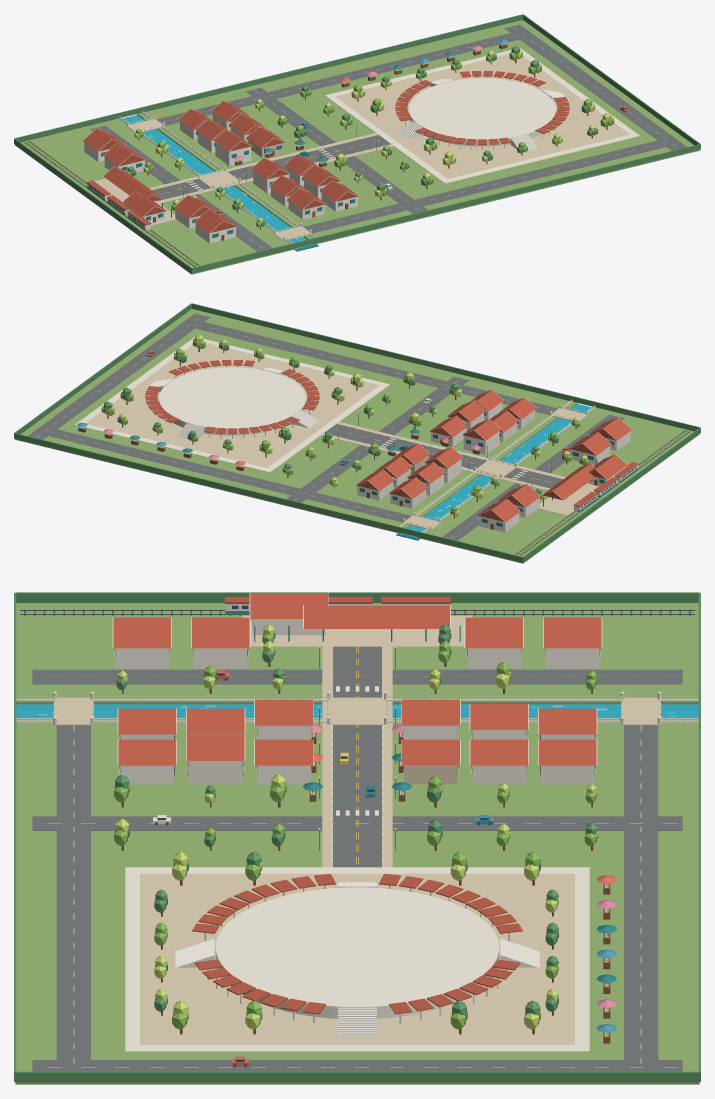
Rendered from HNP_Town.fbx.
3 views of the same model, one above another, from view 1: azimuth 30°, elevation 25°; view 2: azimuth 150°, elevation 25°; view 3: azimuth 270°, elevation 25° (orthographic). The views are drawn at different scales.
Visible parts, largest first — view 1: COLL_Town, Town_HNPW_Asphalt, Town_HNPW_Ivory, Town_HNPW_Roof, Town_HNPW_Path, Town_HNPW_LeafDark, Town_HNPW_Water, Town_HNPW_Leaf, Town_HNPW_LeafLight, Town_HNPW_Plaster, Town_HNPW_White, Town_HNPW_Teal (+1 smaller); view 2: COLL_Town, Town_HNPW_Asphalt, Town_HNPW_Ivory, Town_HNPW_Roof, Town_HNPW_Path, Town_HNPW_LeafDark, Town_HNPW_Water, Town_HNPW_Leaf, Town_HNPW_LeafLight, Town_HNPW_White, Town_HNPW_Plaster, Town_HNPW_Teal (+1 smaller); view 3: COLL_Town, Town_HNPW_Asphalt, Town_HNPW_Path, Town_HNPW_Roof, Town_HNPW_Ivory, Town_HNPW_LeafDark, Town_HNPW_Plaster, Town_HNPW_Leaf, Town_HNPW_LeafLight, Town_HNPW_White, Town_HNPW_Water, Town_HNPW_Teal (+2 smaller).
Part boxes in pixels (bbox=[...]): COLL_Town: bbox=[14, 14, 700, 274]; Town_HNPW_Asphalt: bbox=[90, 24, 686, 251]; Town_HNPW_Ivory: bbox=[83, 39, 639, 248]; Town_HNPW_Roof: bbox=[83, 71, 569, 232]; Town_HNPW_Path: bbox=[94, 54, 629, 225]; Town_HNPW_LeafDark: bbox=[14, 14, 700, 272]; Town_HNPW_Water: bbox=[122, 115, 316, 248]; Town_HNPW_Leaf: bbox=[126, 43, 614, 227]; Town_HNPW_LeafLight: bbox=[134, 50, 611, 223]; Town_HNPW_Plaster: bbox=[84, 80, 555, 242]; Town_HNPW_White: bbox=[99, 28, 676, 247]; Town_HNPW_Teal: bbox=[87, 52, 455, 251]; COLL_Town: bbox=[14, 303, 700, 563]; Town_HNPW_Asphalt: bbox=[28, 313, 624, 540]; Town_HNPW_Ivory: bbox=[75, 337, 634, 532]; Town_HNPW_Roof: bbox=[145, 360, 637, 521]; Town_HNPW_Path: bbox=[86, 343, 598, 515]; Town_HNPW_LeafDark: bbox=[14, 303, 700, 561]; Town_HNPW_Water: bbox=[398, 404, 592, 537]; Town_HNPW_Leaf: bbox=[80, 339, 589, 515]; Town_HNPW_LeafLight: bbox=[101, 334, 587, 516]; Town_HNPW_White: bbox=[36, 318, 614, 538]; Town_HNPW_Plaster: bbox=[159, 369, 588, 532]; Town_HNPW_Teal: bbox=[130, 412, 637, 540]; COLL_Town: bbox=[14, 592, 700, 1084]; Town_HNPW_Asphalt: bbox=[32, 646, 682, 1071]; Town_HNPW_Path: bbox=[140, 615, 574, 1044]; Town_HNPW_Roof: bbox=[113, 593, 601, 1014]; Town_HNPW_Ivory: bbox=[16, 593, 698, 1051]; Town_HNPW_LeafDark: bbox=[14, 592, 700, 1082]; Town_HNPW_Plaster: bbox=[115, 619, 599, 1035]; Town_HNPW_Leaf: bbox=[114, 634, 608, 1035]; Town_HNPW_LeafLight: bbox=[114, 624, 598, 1029]; Town_HNPW_White: bbox=[16, 621, 698, 1067]; Town_HNPW_Water: bbox=[16, 704, 698, 717]; Town_HNPW_Teal: bbox=[115, 611, 616, 983].
Bounding box in the file's own units: 23250 × 1161 × 14050.
